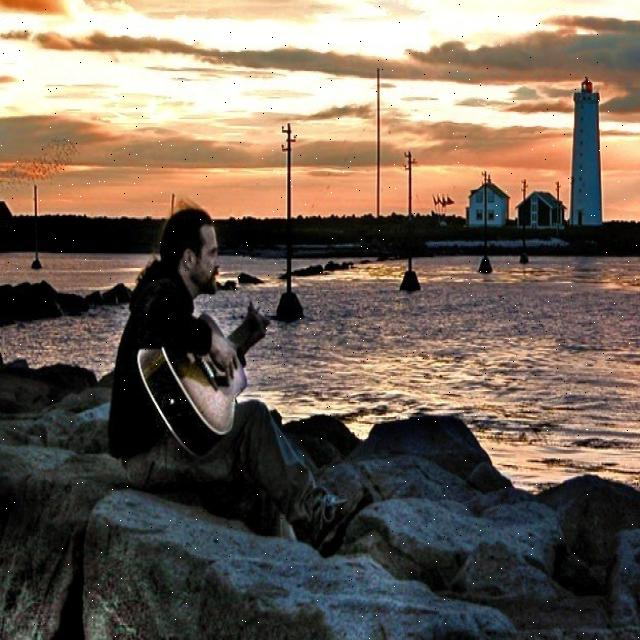guitar: (134, 299, 272, 459)
